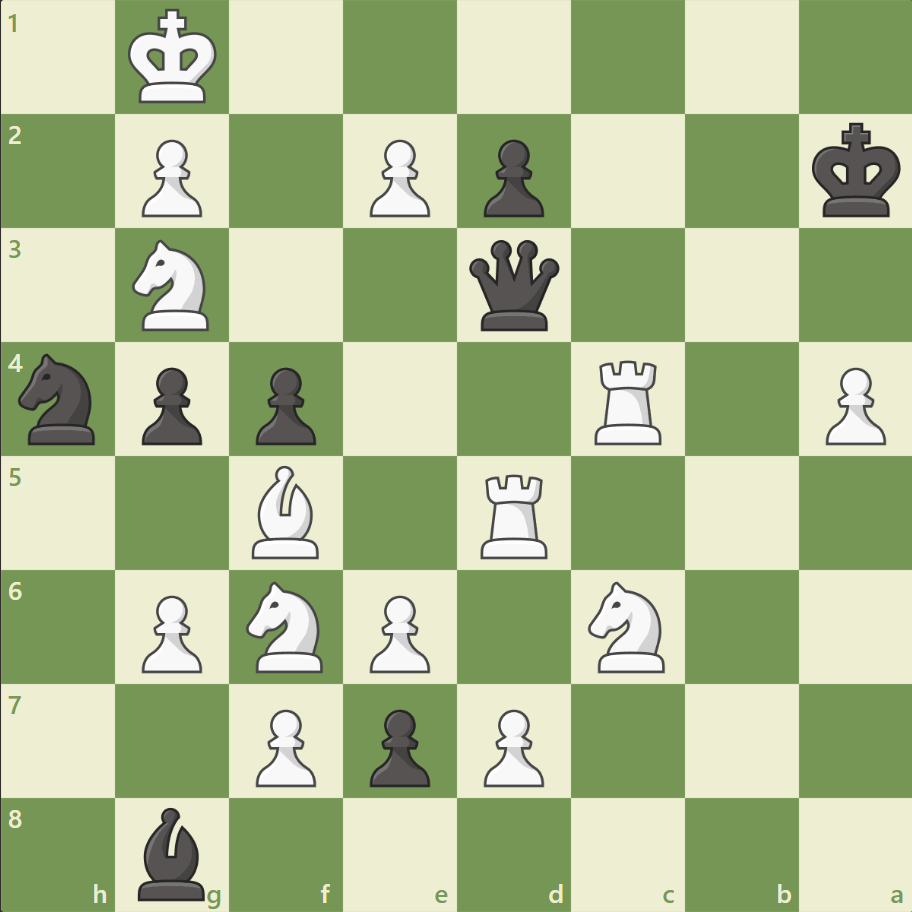B: (244, 460, 328, 563)
K: (124, 4, 224, 112)
N: (124, 234, 222, 337), (579, 575, 676, 677), (238, 575, 335, 677)
P: (474, 700, 549, 791), (247, 700, 322, 791), (133, 586, 208, 677), (133, 132, 208, 223), (361, 586, 435, 677), (815, 359, 889, 450), (361, 132, 435, 223)
R: (473, 466, 556, 563), (587, 352, 670, 449)
b: (131, 801, 215, 904)
k: (806, 117, 906, 225)
n: (11, 348, 108, 450)
p: (247, 359, 322, 450), (133, 359, 208, 450), (474, 132, 549, 223), (361, 700, 435, 791)
q: (464, 236, 563, 335)
